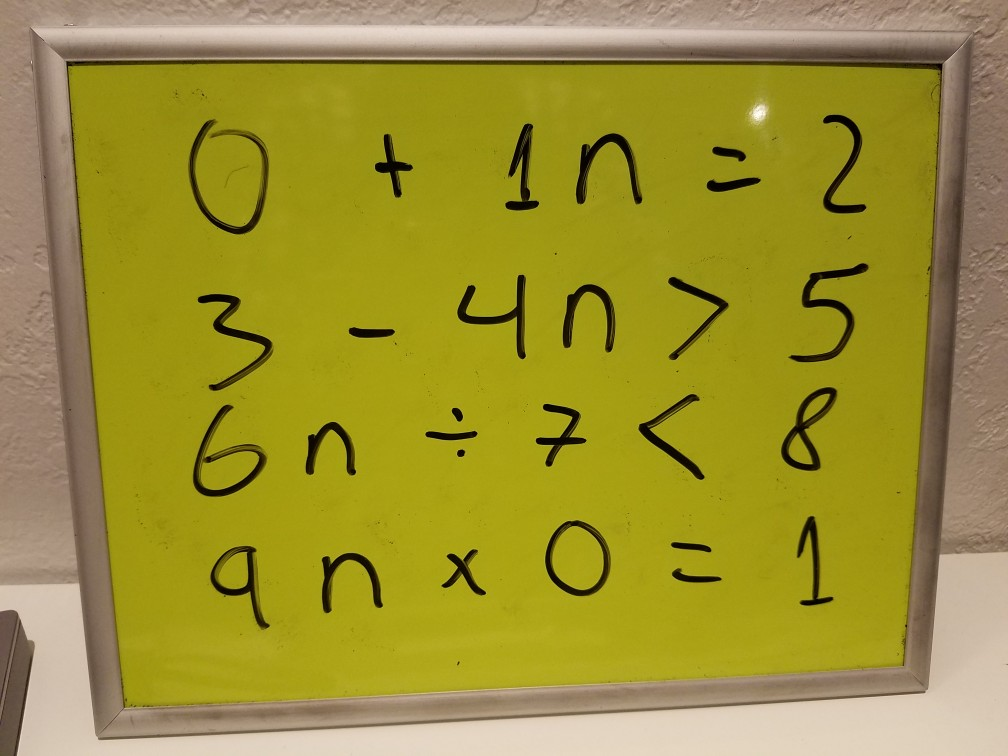+: (362, 120, 427, 211)
-: (338, 309, 403, 350)
0: (182, 113, 273, 245), (540, 516, 617, 605)
1: (489, 115, 547, 220), (788, 510, 841, 617)
2: (806, 100, 875, 224)
3: (191, 281, 281, 397)
4: (452, 264, 536, 363)
5: (783, 254, 874, 373)
6: (185, 401, 271, 501)
7: (523, 393, 592, 481)
8: (776, 381, 840, 486)
9: (203, 530, 279, 644)
<: (630, 388, 713, 485)
=: (658, 523, 730, 595), (694, 135, 766, 201)
>: (659, 258, 733, 365)
div: (415, 393, 488, 473)
n: (565, 124, 652, 217), (311, 535, 391, 624), (553, 276, 622, 363), (298, 410, 365, 492)
x: (427, 540, 488, 604)
